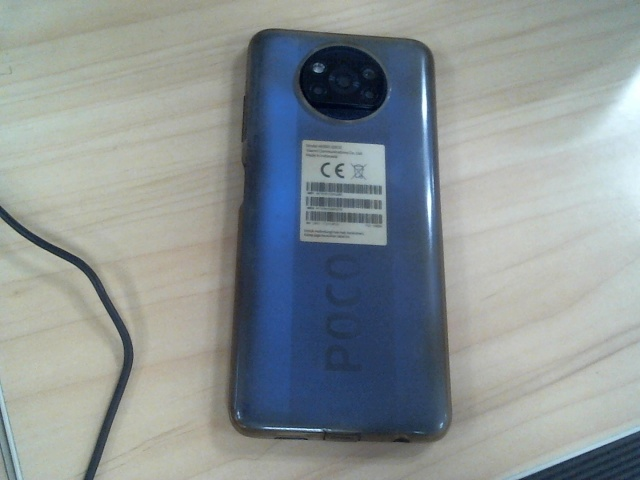handphone: (227, 28, 454, 445)
